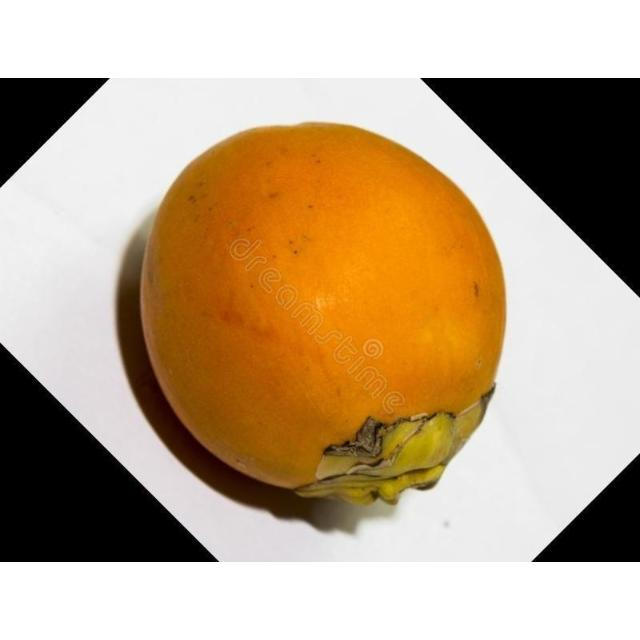good: (137, 123, 508, 508)
